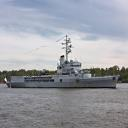Portanaves: (6, 35, 122, 90)
